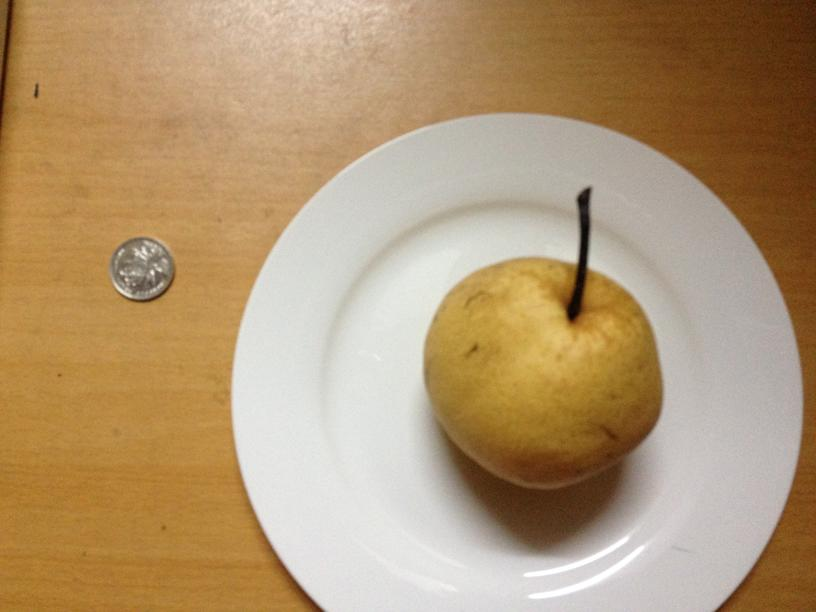coin: (108, 236, 176, 299)
pear: (417, 251, 664, 490)
